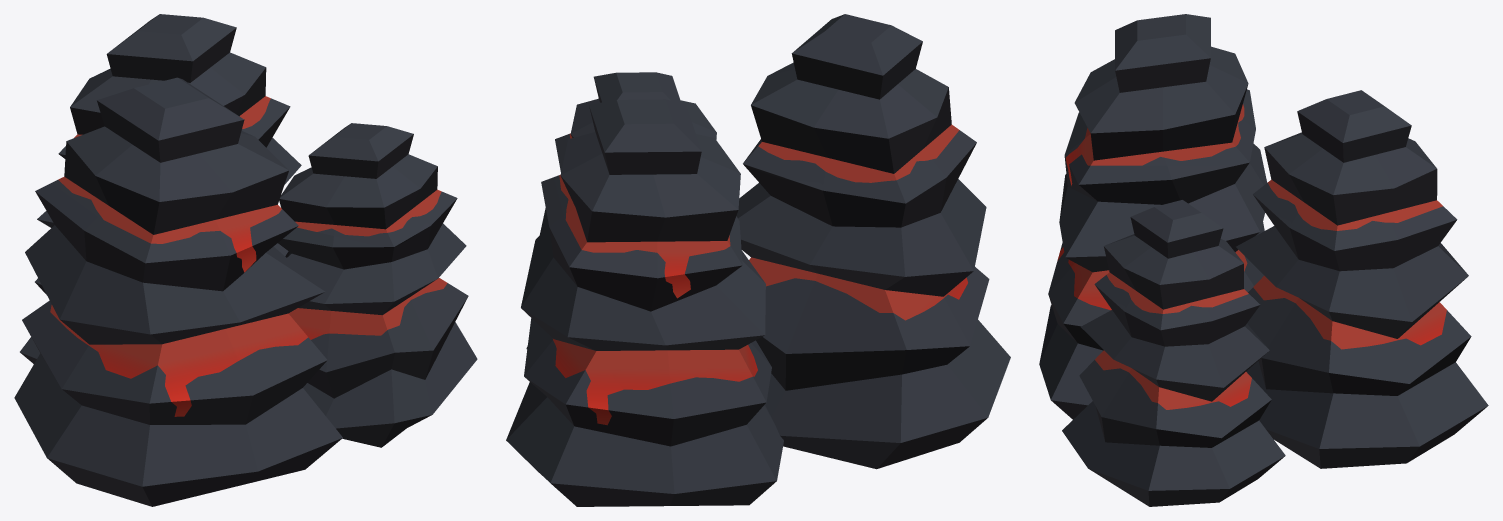
The model's file is Volcanic_stone.fbx.
The picture shows the model from 3 angles, left to right: view 1: azimuth 30°, elevation 25°; view 2: azimuth 150°, elevation 25°; view 3: azimuth 270°, elevation 25°; orthographic projection. The views are drawn at different scales.
Visible parts, largest first — view 1: Volcanic_stone; view 2: Volcanic_stone; view 3: Volcanic_stone.
Boxes of the visible parts, box(x1,y1,x2,y2) form: Volcanic_stone: box(14, 14, 477, 506); Volcanic_stone: box(506, 14, 1010, 506); Volcanic_stone: box(1039, 14, 1488, 506).
Size of the model in its own units: 1.61 by 1.54 by 1.34.
